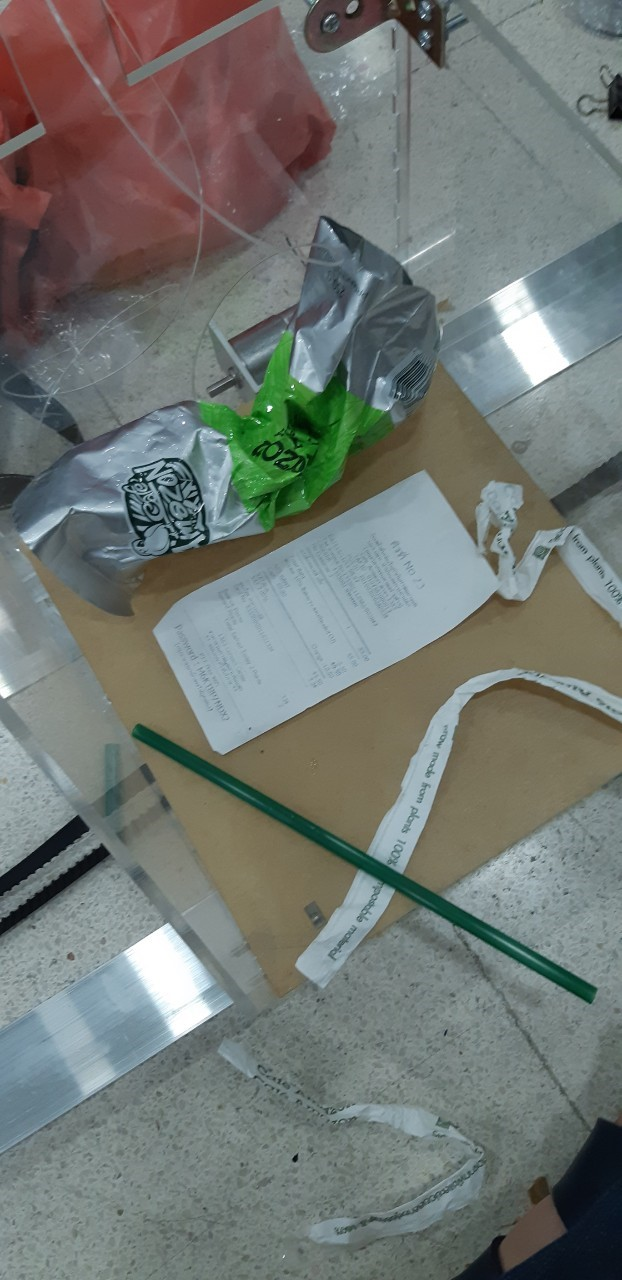Others: (10, 219, 444, 617), (126, 725, 600, 1003), (296, 661, 622, 985), (148, 465, 504, 757), (476, 487, 622, 618)
